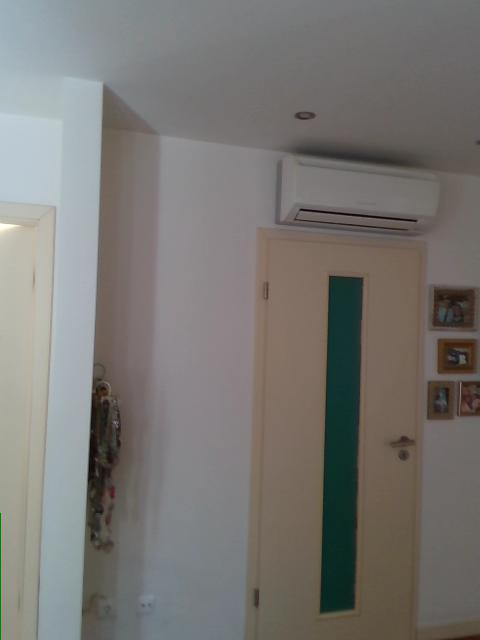door: (243, 229, 432, 639)
